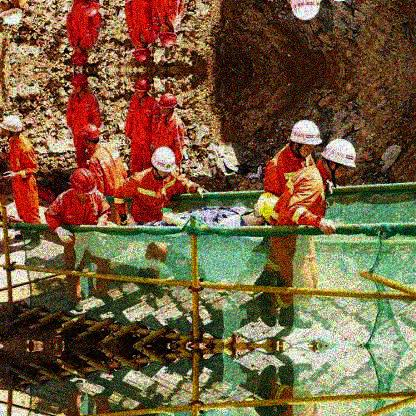helmet: (322, 139, 359, 186), (290, 119, 322, 160), (150, 146, 176, 180), (70, 169, 97, 201), (253, 191, 279, 223), (80, 121, 101, 150), (1, 112, 24, 138), (1, 1, 24, 27), (157, 22, 178, 48), (160, 93, 178, 118), (72, 73, 90, 95), (134, 77, 151, 100)
